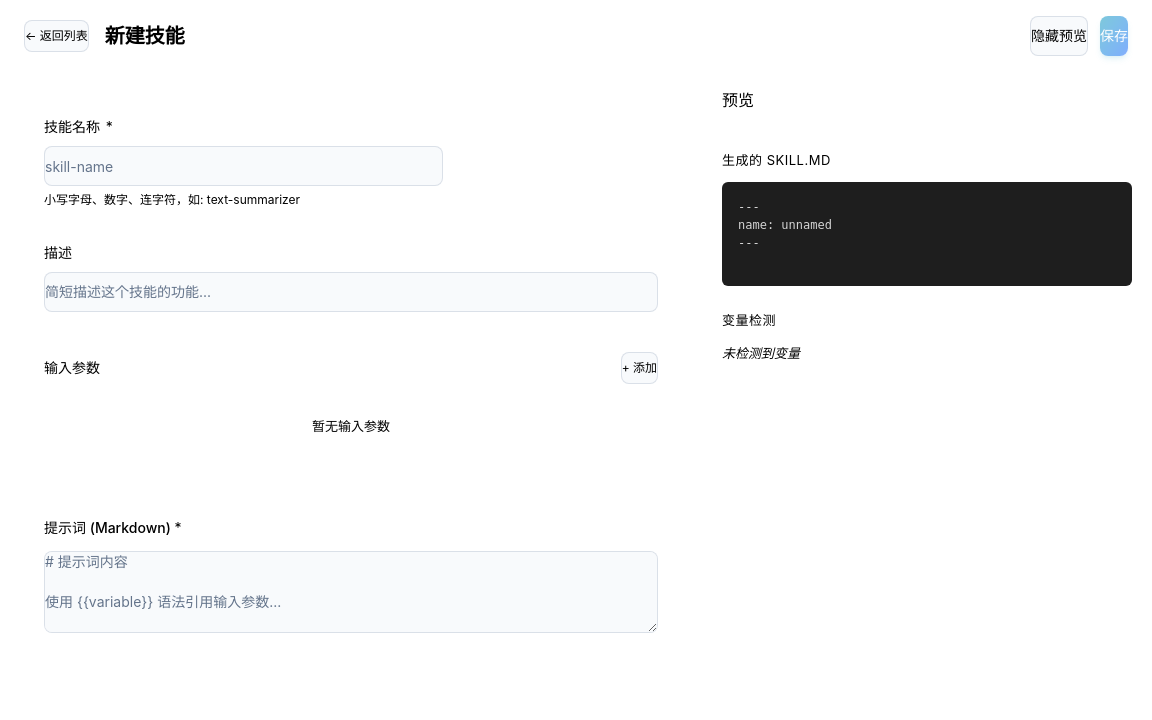
Test: SkillEditor Input Parameters › should remove input parameter
Click the button "+ 添加" at point(639, 368), box [621,352,658,384]
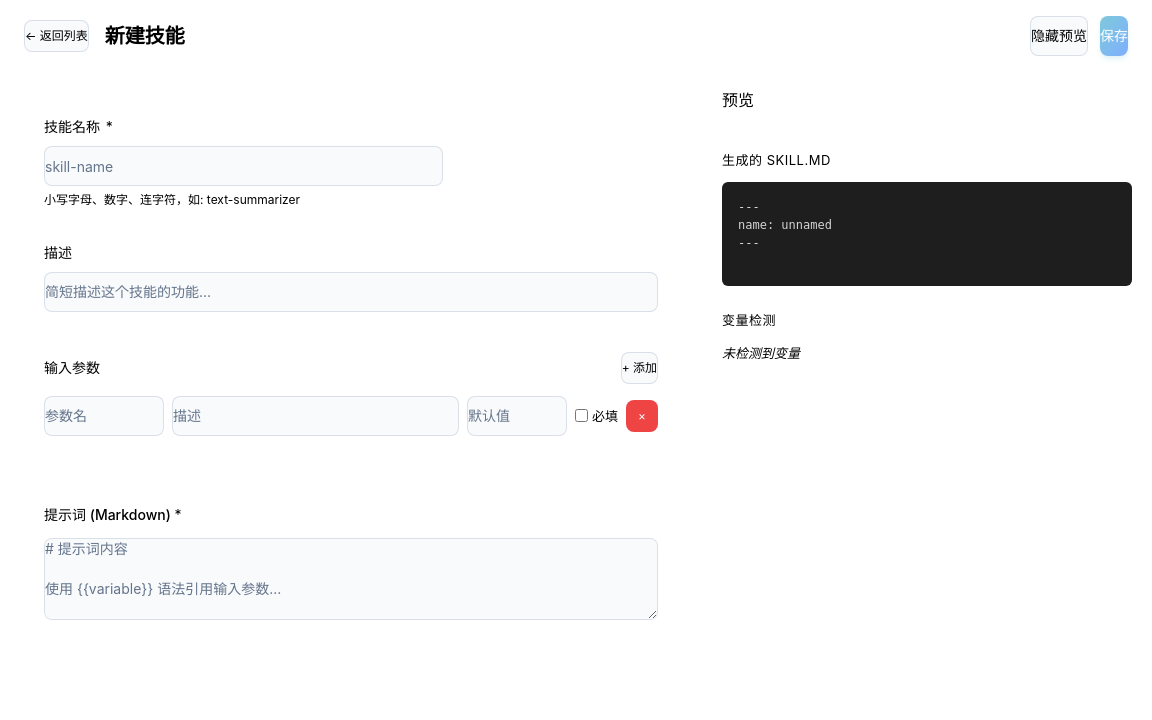
Expected: the number of elements with class "input-row" is 1, [44,396,658,436]
Click the button with class "btn-remove" at point(642, 416), box [626,400,658,432]
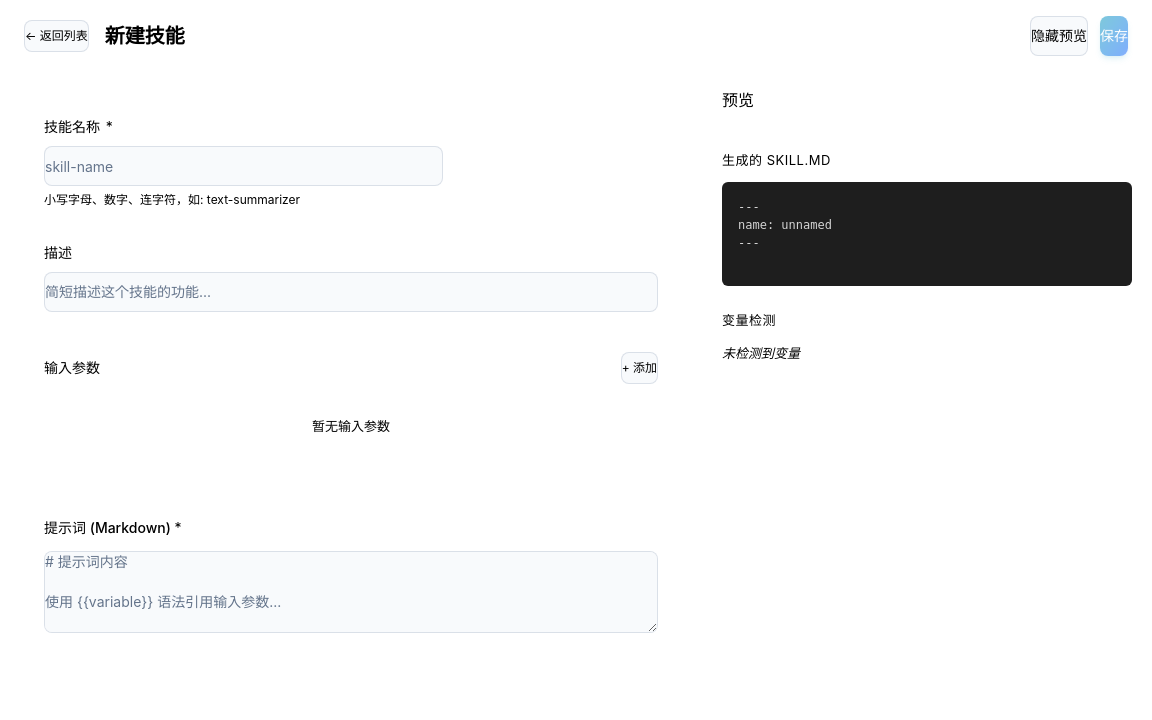
Expected: no elements with class "input-row" are shown
